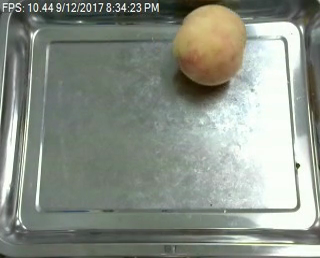Peach: (174, 3, 246, 85)
